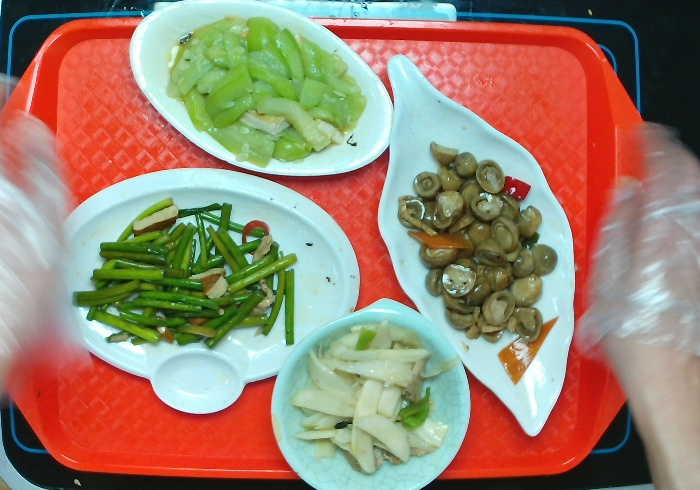RJxy-Bai_Se_Tuo_Yuan: (128, 1, 403, 180)
RJxy-Shu_Ye_Pan: (369, 55, 584, 435)
RJxy-Xiao_Jiao_Yuan_Wan: (272, 297, 478, 490)
RJxy-Zhan_Liao_Pan: (47, 166, 372, 408)
